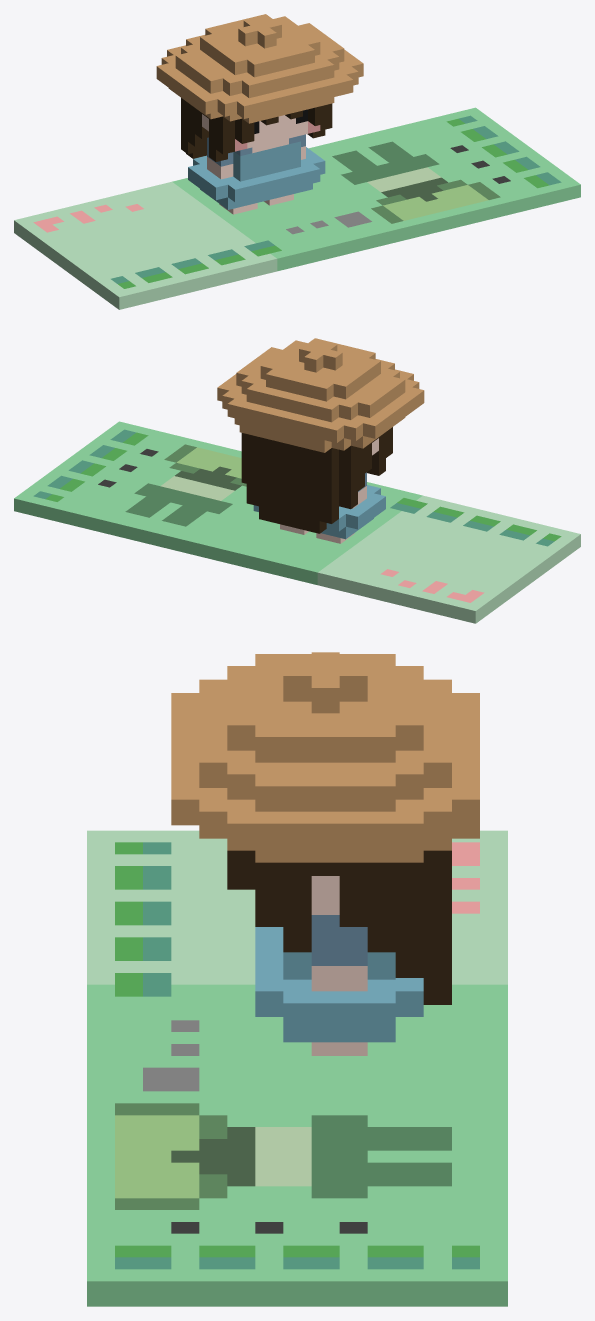
File: Credit_HSJ.obj
3 views of the same model, one above another, from view 1: azimuth 30°, elevation 25°; view 2: azimuth 150°, elevation 25°; view 3: azimuth 270°, elevation 25° (orthographic). The views are drawn at different scales.
Bounding box in the file's own units: 38 × 15 × 15.
Materials: 1 (1 with a texture image).
